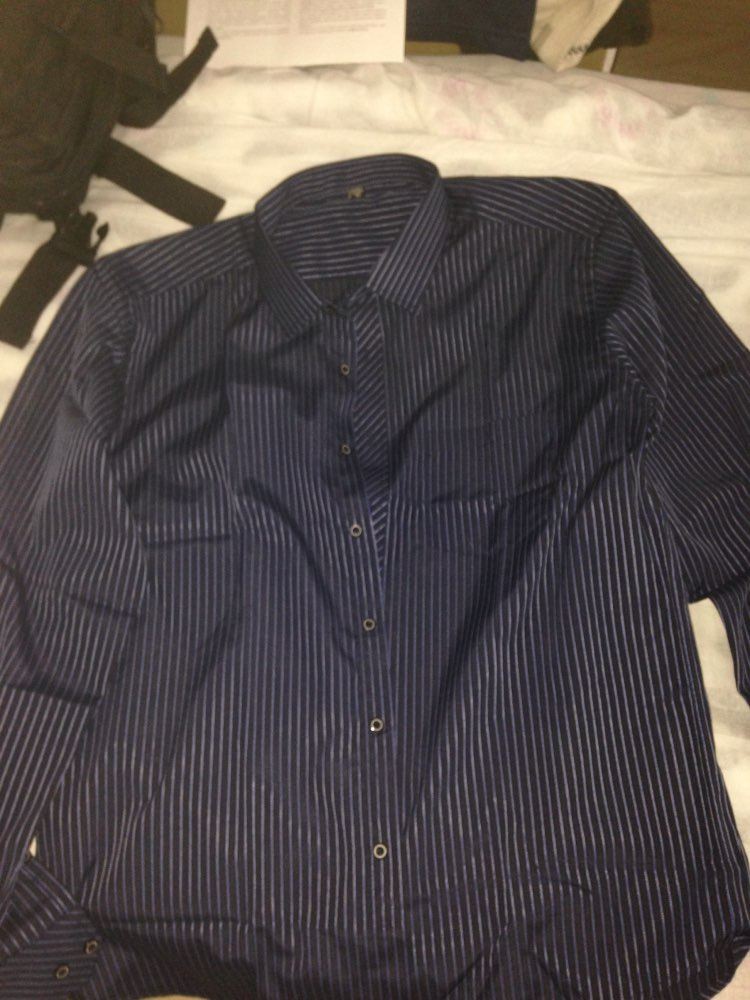shirts: (45, 159, 750, 961)
